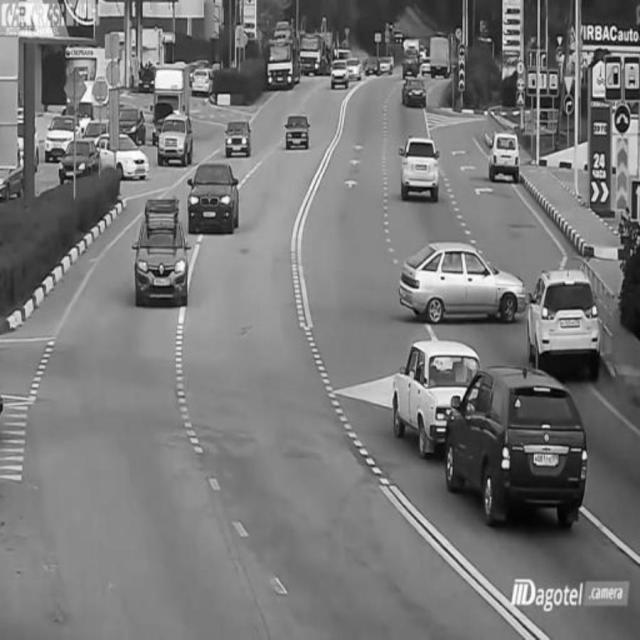vehicle: (445, 361, 591, 521), (389, 339, 466, 483), (394, 237, 528, 319), (529, 264, 609, 368), (134, 203, 194, 311), (186, 155, 241, 238), (398, 134, 443, 204), (97, 125, 151, 180), (156, 105, 194, 169), (57, 132, 98, 189), (264, 24, 300, 88), (41, 106, 78, 167), (223, 111, 257, 162), (488, 131, 520, 183), (286, 109, 311, 157), (399, 73, 429, 109), (188, 61, 213, 97), (327, 56, 351, 93)
